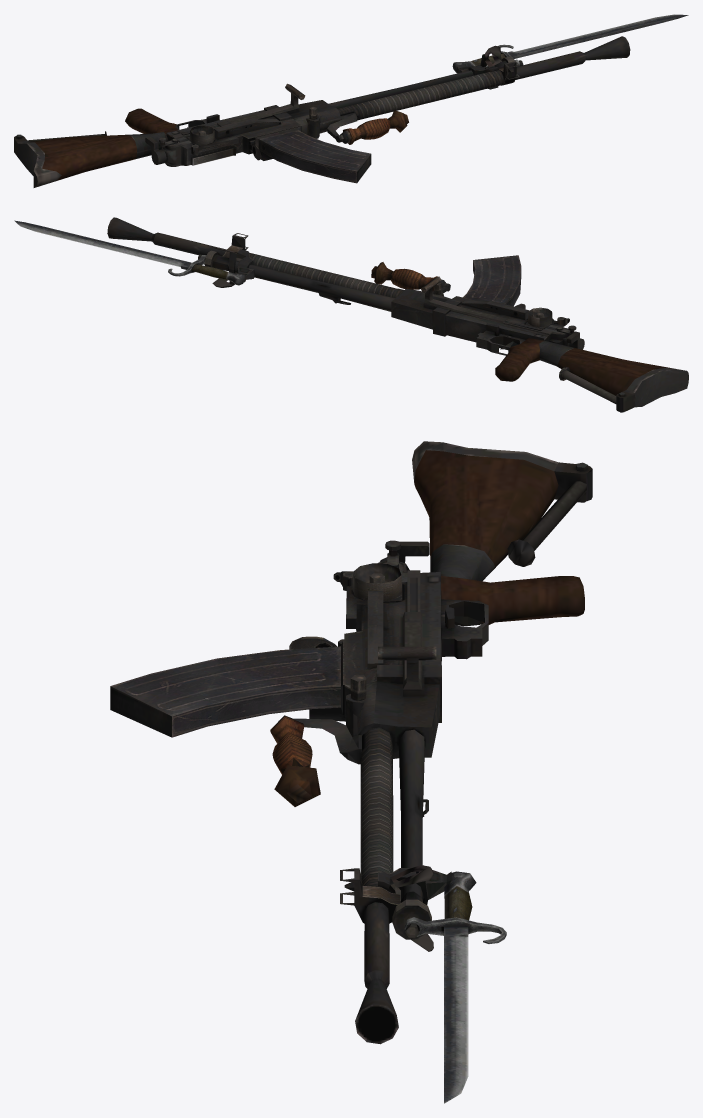
File: weapon_jap_type99_bayonet_lmg_LOD01.obj
3 views of the same model, one above another, from view 1: azimuth 30°, elevation 25°; view 2: azimuth 150°, elevation 25°; view 3: azimuth 270°, elevation 25° (orthographic). The views are drawn at different scales.
Parts seen in each view (by area): view 1: TomGroup_0, TomGroup_2, TomGroup_1; view 2: TomGroup_0, TomGroup_2, TomGroup_1; view 3: TomGroup_0, TomGroup_2, TomGroup_1.
Boxes of the visible parts, left/top/right/bottom form: TomGroup_0: left=14, top=36, right=630, bottom=187; TomGroup_2: left=30, top=108, right=408, bottom=182; TomGroup_1: left=452, top=14, right=688, bottom=73; TomGroup_0: left=107, top=217, right=688, bottom=412; TomGroup_2: left=371, top=262, right=675, bottom=395; TomGroup_1: left=14, top=220, right=244, bottom=285; TomGroup_0: left=110, top=441, right=592, bottom=1044; TomGroup_2: left=270, top=450, right=584, bottom=806; TomGroup_1: left=404, top=871, right=506, bottom=1103.
Bounding box in the file's own units: 147 × 10.89 × 46.64.
2 materials, 2 textured.
